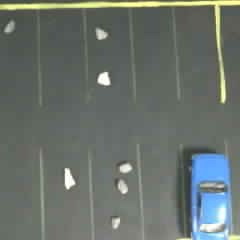Car: (181, 144, 238, 240)
obstacle: (111, 155, 134, 198), (58, 160, 81, 196), (0, 13, 26, 40), (102, 209, 132, 230), (93, 67, 113, 90), (92, 20, 108, 42)
